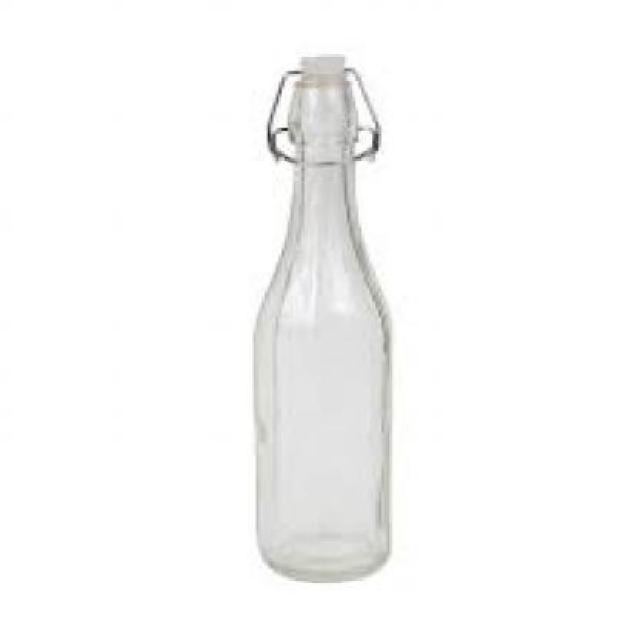kaca: (254, 74, 388, 580)
